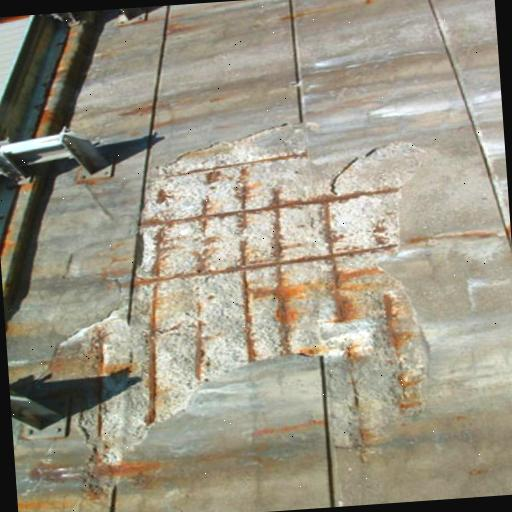spalling: (50, 124, 426, 499)
